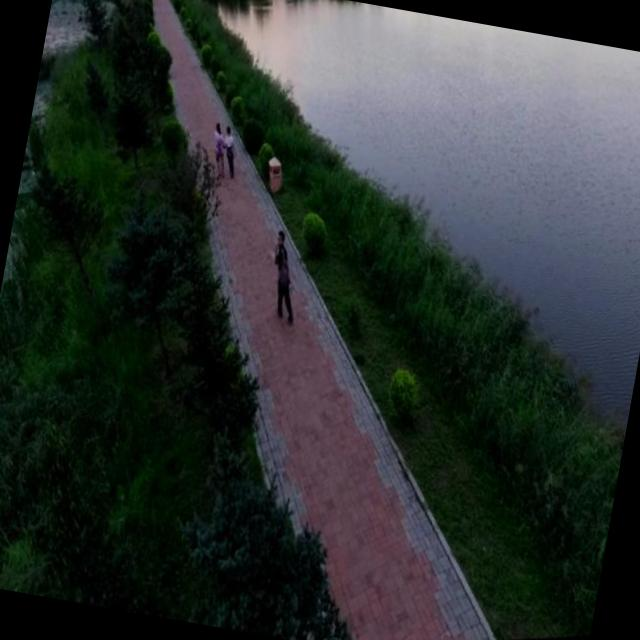person: (253, 224, 310, 327), (202, 118, 237, 178), (215, 121, 246, 178)
